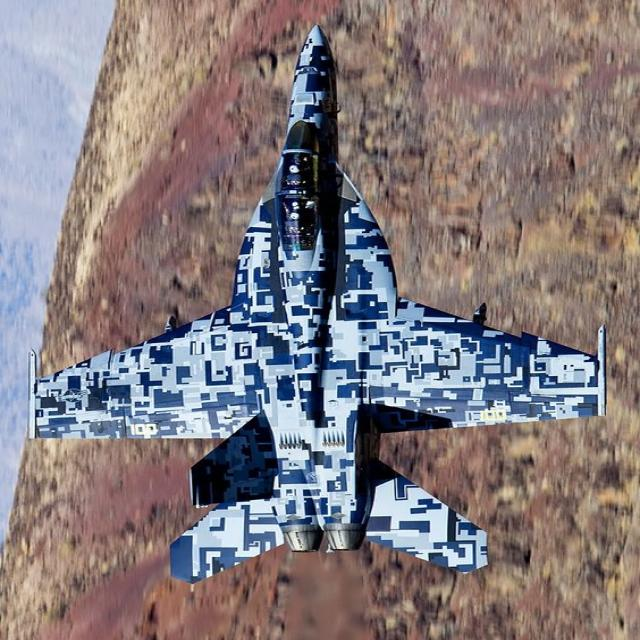MIL_Plane: (28, 24, 607, 585)
